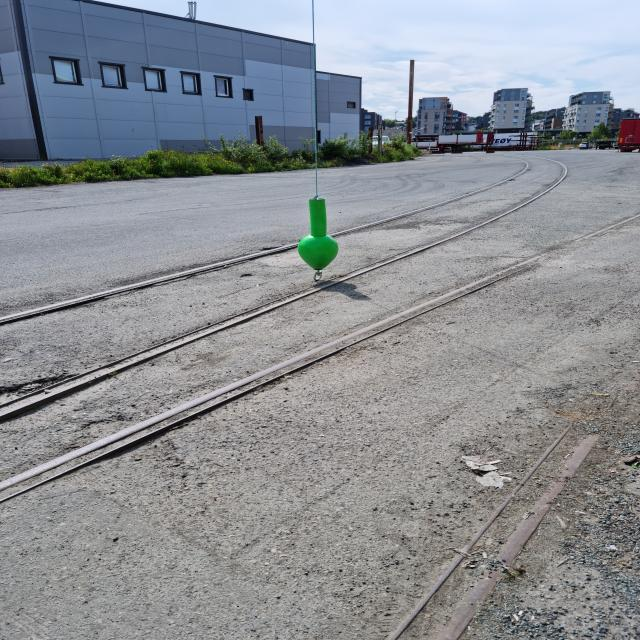green: (296, 200, 340, 270)
